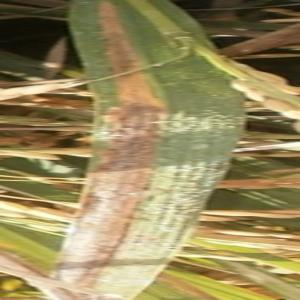2 BacterialBlight: (80, 4, 220, 271)
